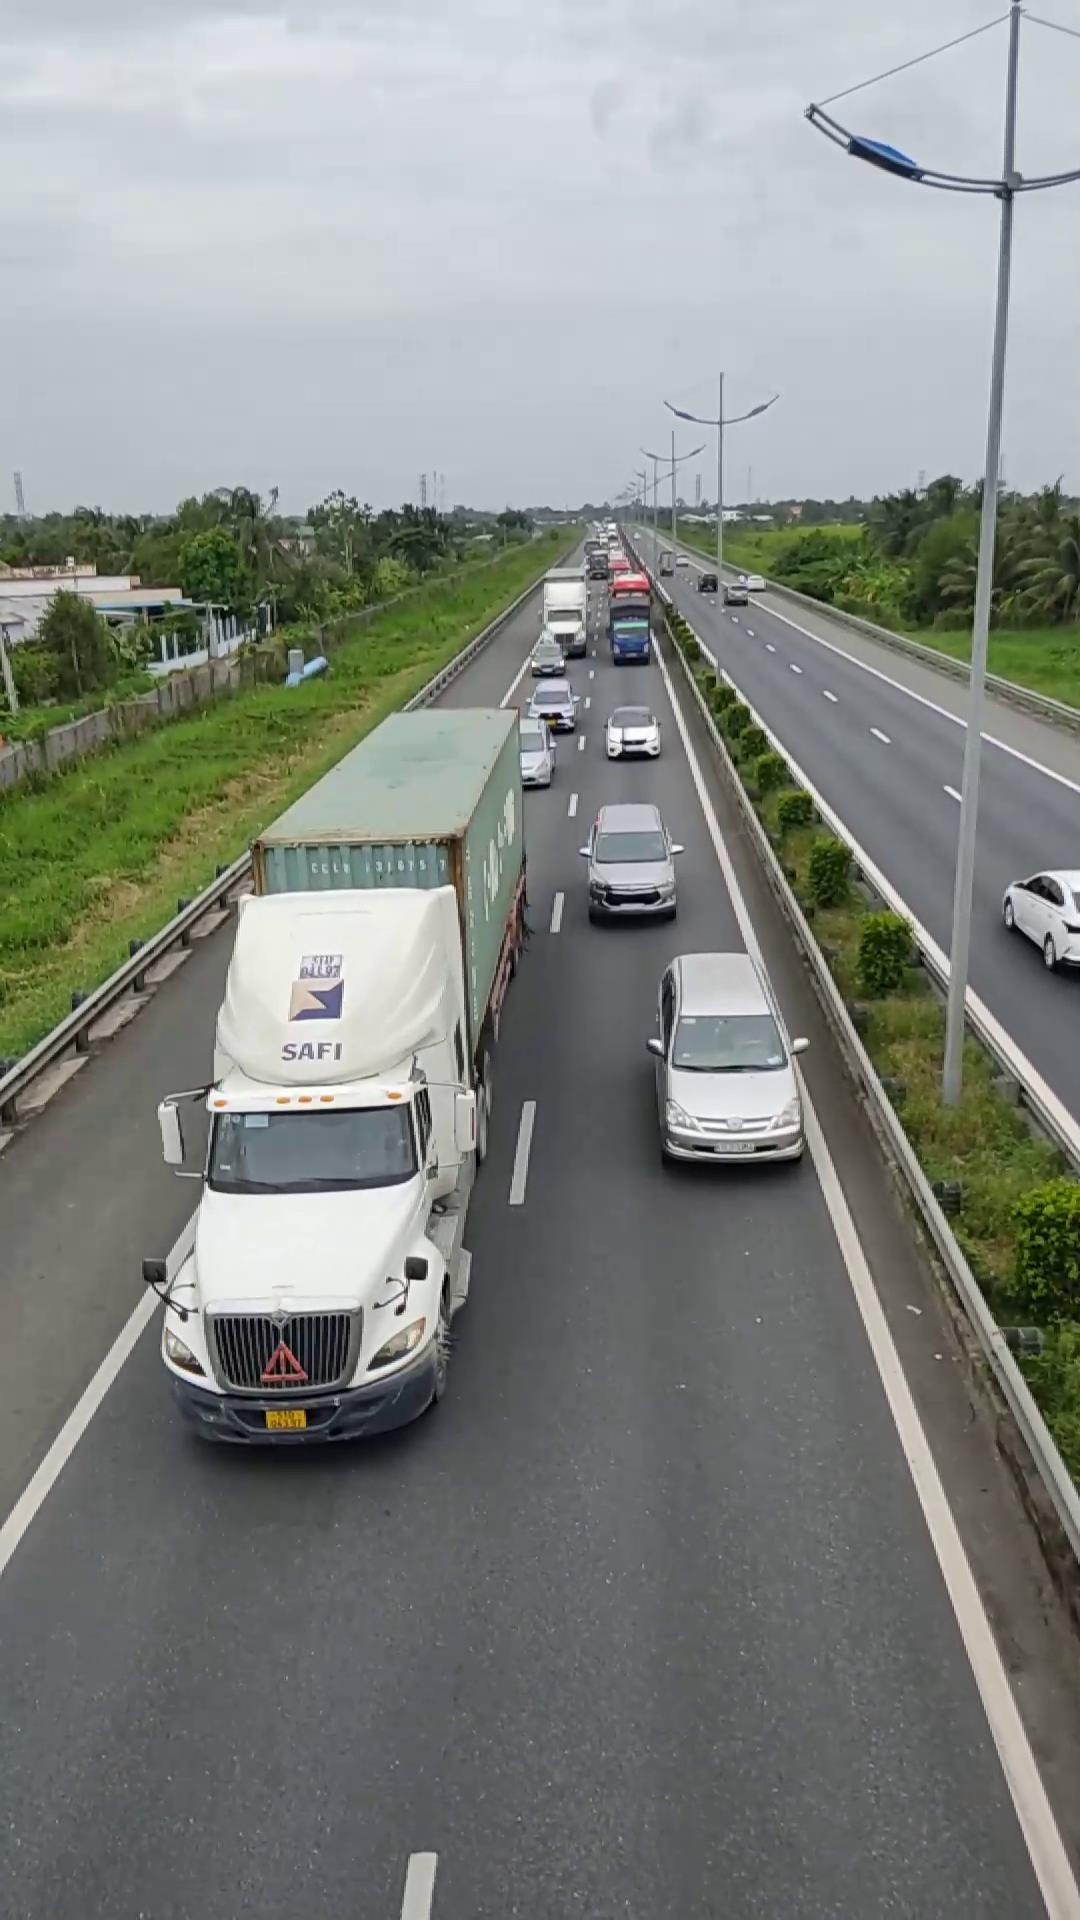car: (645, 949, 807, 1168), (582, 800, 680, 924), (1001, 868, 1080, 971)
container: (154, 700, 533, 1447)
